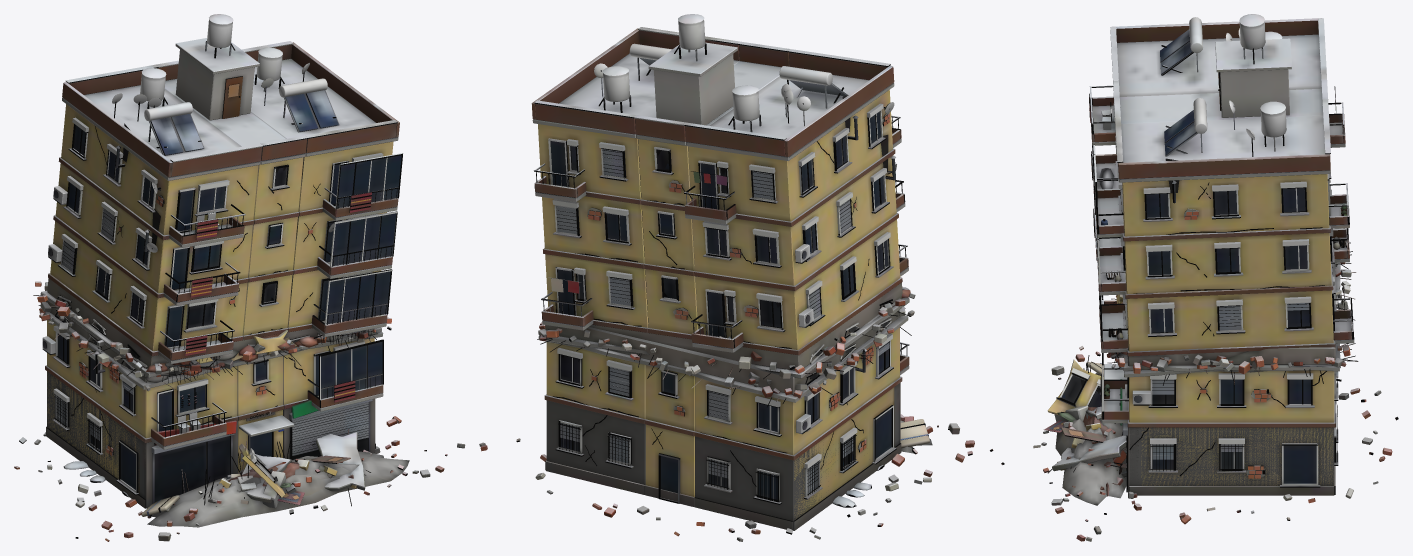
File: bld_pancake_mid.glb
3 renders of one model, left to right at view 1: azimuth 30°, elevation 25°; view 2: azimuth 150°, elevation 25°; view 3: azimuth 270°, elevation 25°, orthographic. The views are drawn at different scales.
Parts seen in each view (by area): view 1: bld_pancake_mid; view 2: bld_pancake_mid; view 3: bld_pancake_mid.
Part boxes in pixels (bbox=[...]): bld_pancake_mid: bbox=[14, 14, 487, 541]; bld_pancake_mid: bbox=[516, 14, 1004, 541]; bld_pancake_mid: bbox=[1033, 14, 1398, 541].
Size of the model in its own units: 21.11 by 21.27 by 16.03.
Materials: 1 (1 with a texture image).
